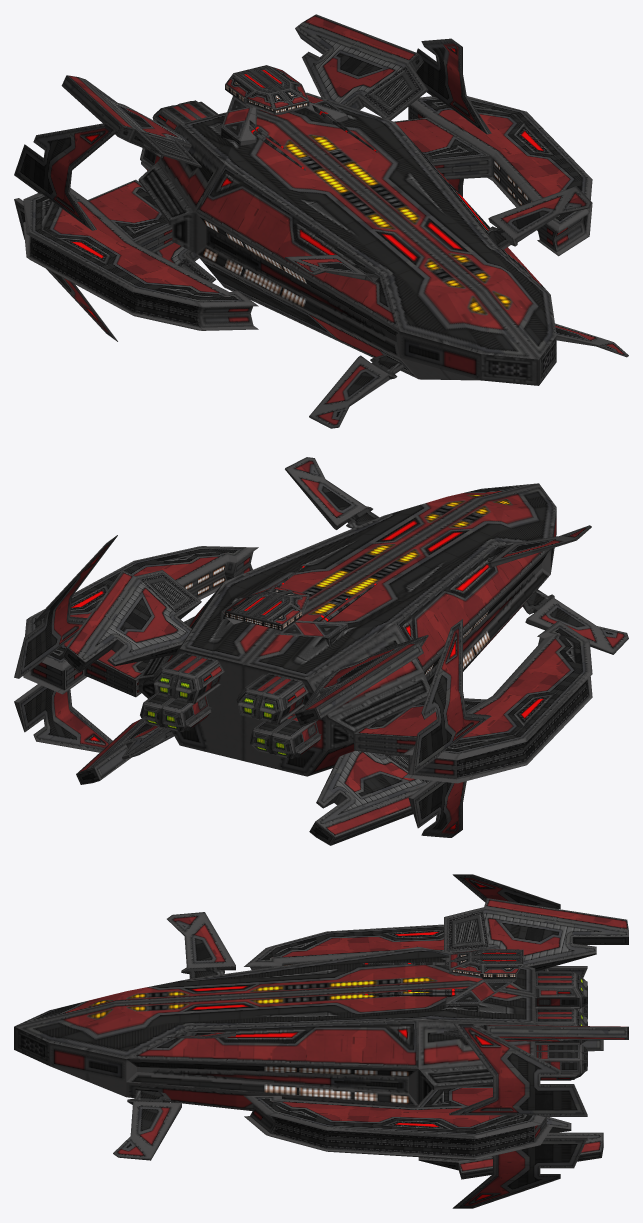
File: BFP_LargeStarship03.FBX
3 views of the same model, one above another, from view 1: azimuth 30°, elevation 25°; view 2: azimuth 150°, elevation 25°; view 3: azimuth 270°, elevation 25° (orthographic). The views are drawn at different scales.
Visible parts, largest first — view 1: MainHullSection, SideHullWing_Right, SideHullWing_Left, RearHullWing_UpperLeft, WingFin_UpperRight, Bridge, RearHullWing_UpperRight, WingFin_UpperLeft, ForwardGuideWing_LowerRight, ForwardGuideWing_UpperLeft, ForwardGuideWing_UpperRight, RearEngine_UpperRight (+3 smaller); view 2: MainHullSection, SideHullWing_Right, RearHullWing_UpperLeft, SideHullWing_Left, RearHullWing_LowerRight, WingFin_UpperRight, RearHullWing_UpperRight, WingFin_LowerLeft, Bridge, WingFin_UpperLeft, ForwardGuideWing_UpperLeft, RearEngine_UpperRight (+7 smaller); view 3: MainHullSection, SideHullWing_Left, RearHullWing_UpperRight, WingFin_UpperLeft, SideHullWing_Right, WingFin_LowerLeft, Bridge, ForwardGuideWing_LowerLeft, ForwardGuideWing_UpperRight, RearHullWing_UpperLeft, RearHullWing_LowerLeft, RearEngine_UpperRight (+4 smaller).
Part boxes in pixels (<box>): MainHullSection: <box>138,92,556,385</box>; SideHullWing_Right: <box>23,179,258,330</box>; SideHullWing_Left: <box>394,96,592,256</box>; RearHullWing_UpperLeft: <box>295,14,428,120</box>; WingFin_UpperRight: <box>14,123,117,230</box>; Bridge: <box>220,65,348,145</box>; RearHullWing_UpperRight: <box>61,75,201,167</box>; WingFin_UpperLeft: <box>416,38,491,134</box>; ForwardGuideWing_LowerRight: <box>309,355,404,428</box>; ForwardGuideWing_UpperLeft: <box>487,186,591,249</box>; ForwardGuideWing_UpperRight: <box>285,254,379,281</box>; RearEngine_UpperRight: <box>152,100,218,131</box>; MainHullSection: <box>138,483,556,776</box>; SideHullWing_Right: <box>354,620,592,783</box>; RearHullWing_UpperLeft: <box>61,570,201,672</box>; SideHullWing_Left: <box>23,546,258,697</box>; RearHullWing_LowerRight: <box>309,751,431,845</box>; WingFin_UpperRight: <box>408,619,491,774</box>; RearHullWing_UpperRight: <box>295,635,428,726</box>; WingFin_LowerLeft: <box>14,684,112,752</box>; Bridge: <box>220,586,348,646</box>; WingFin_UpperLeft: <box>14,535,117,678</box>; ForwardGuideWing_UpperLeft: <box>285,457,379,529</box>; RearEngine_UpperRight: <box>236,673,308,724</box>; MainHullSection: <box>14,947,535,1110</box>; SideHullWing_Left: <box>244,1084,553,1160</box>; RearHullWing_UpperRight: <box>444,898,628,971</box>; WingFin_UpperLeft: <box>449,1023,587,1116</box>; SideHullWing_Right: <box>244,924,548,972</box>; WingFin_LowerLeft: <box>452,1136,587,1208</box>; Bridge: <box>445,949,523,1012</box>; ForwardGuideWing_LowerLeft: <box>113,1090,181,1160</box>; ForwardGuideWing_UpperRight: <box>167,912,235,978</box>; RearHullWing_UpperLeft: <box>444,1025,628,1041</box>; RearHullWing_LowerLeft: <box>418,1117,603,1179</box>; RearEngine_UpperRight: <box>535,971,587,1008</box>.
Size of the model in its own units: 2450 by 985 by 2955.
2 materials, 2 textured.
